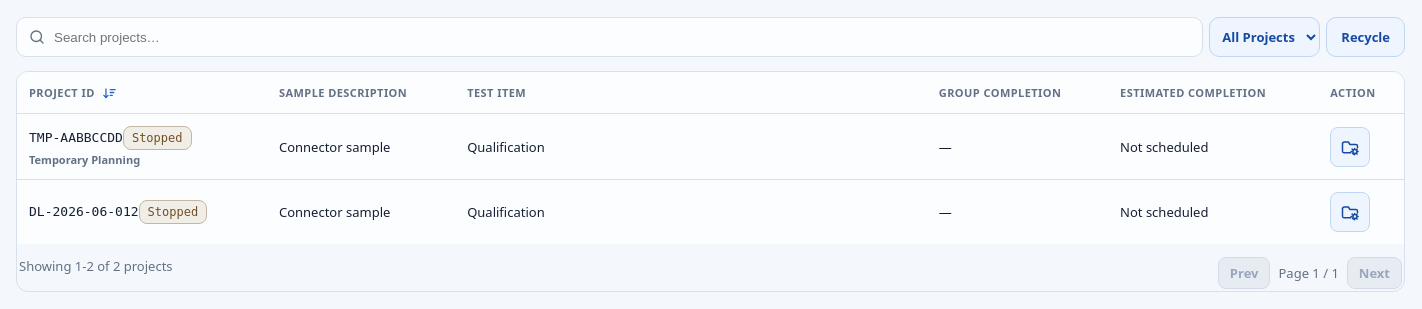
Test: ProjectListPage lifecycle registry views › keeps stopped temporary projects in Planning and stopped registered projects in On-going
This screenshot has width=1422, height=309.
Select "On-going" in the dropdown named "Project view". click: (1265, 37)
box: [1209,17,1320,57]
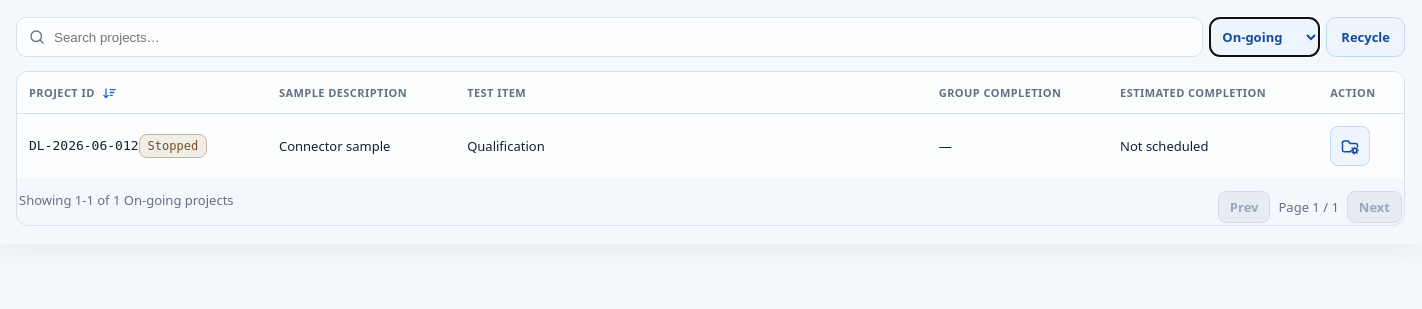
Expected: the text "DL-2026-06-012" is shown, [29,138,139,153]
Now the text "TMP-AABBCCDD" is gone
Select "Planning" in the dropdown named "Project view". click: (1265, 37)
box: [1209,17,1320,57]
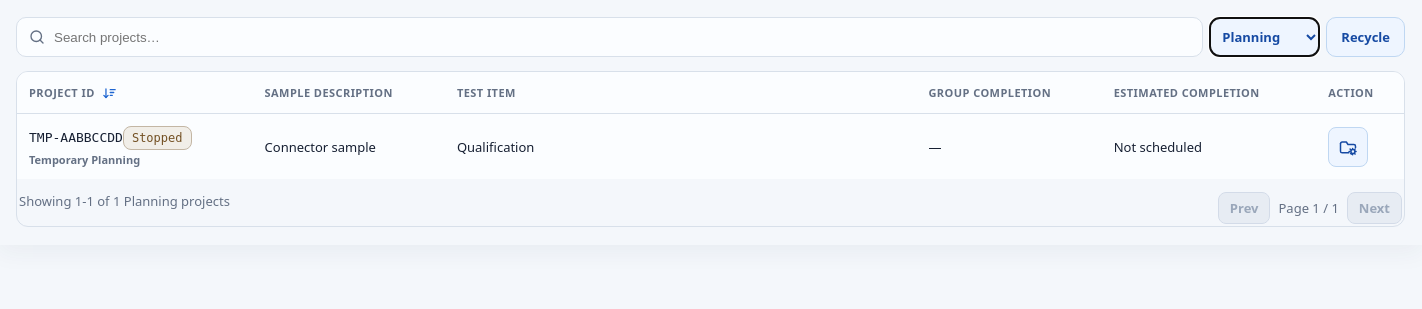
Now the text "TMP-AABBCCDD" is shown, box [29,130,123,145]
Now the text "DL-2026-06-012" is gone
Now the button named "Open Workbench for TMP-AABBCCDD, project workspace" is shown, box [1328,126,1368,166]
